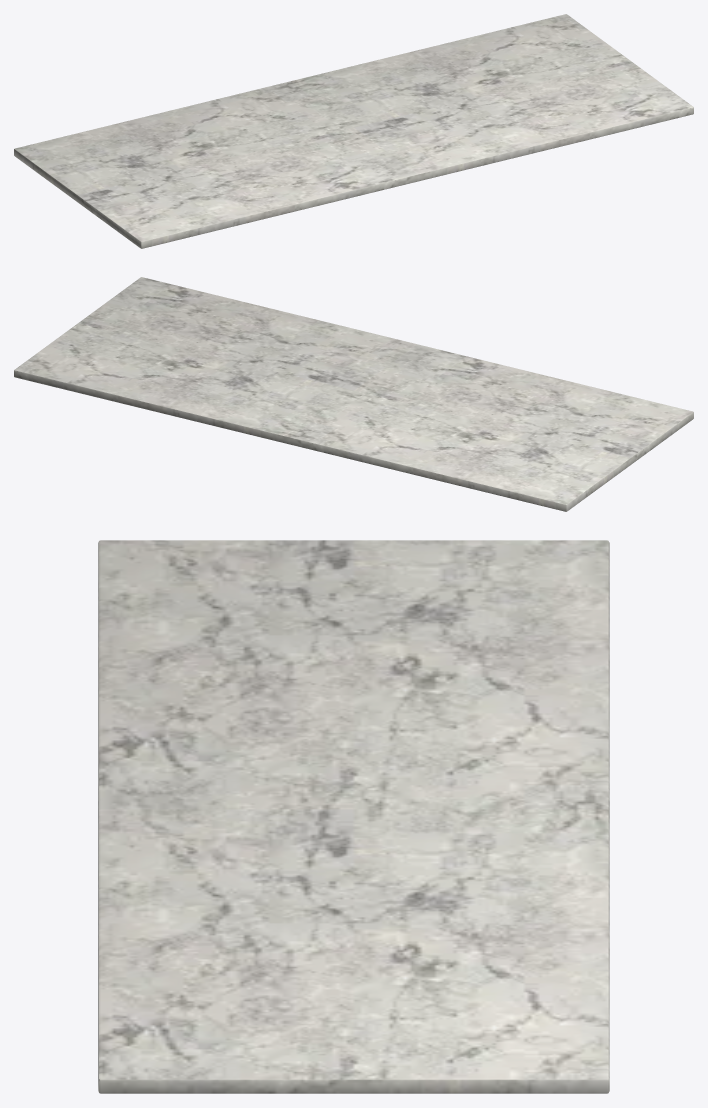
The model's file is REV-PED-002_lod1.glb.
3 renders of one model, top to bottom at view 1: azimuth 30°, elevation 25°; view 2: azimuth 150°, elevation 25°; view 3: azimuth 270°, elevation 25°, orthographic. The views are drawn at different scales.
Parts seen in each view (by area): view 1: REV-PED-002_chapa; view 2: REV-PED-002_chapa; view 3: REV-PED-002_chapa.
Boxes of the visible parts, x1,y1,x2,y2 form: REV-PED-002_chapa: (14,14,693,248); REV-PED-002_chapa: (14,277,693,511); REV-PED-002_chapa: (98,540,609,1093).
Bounding box in the file's own units: 1.5 × 0.02 × 0.6.
1 material, 1 textured.
